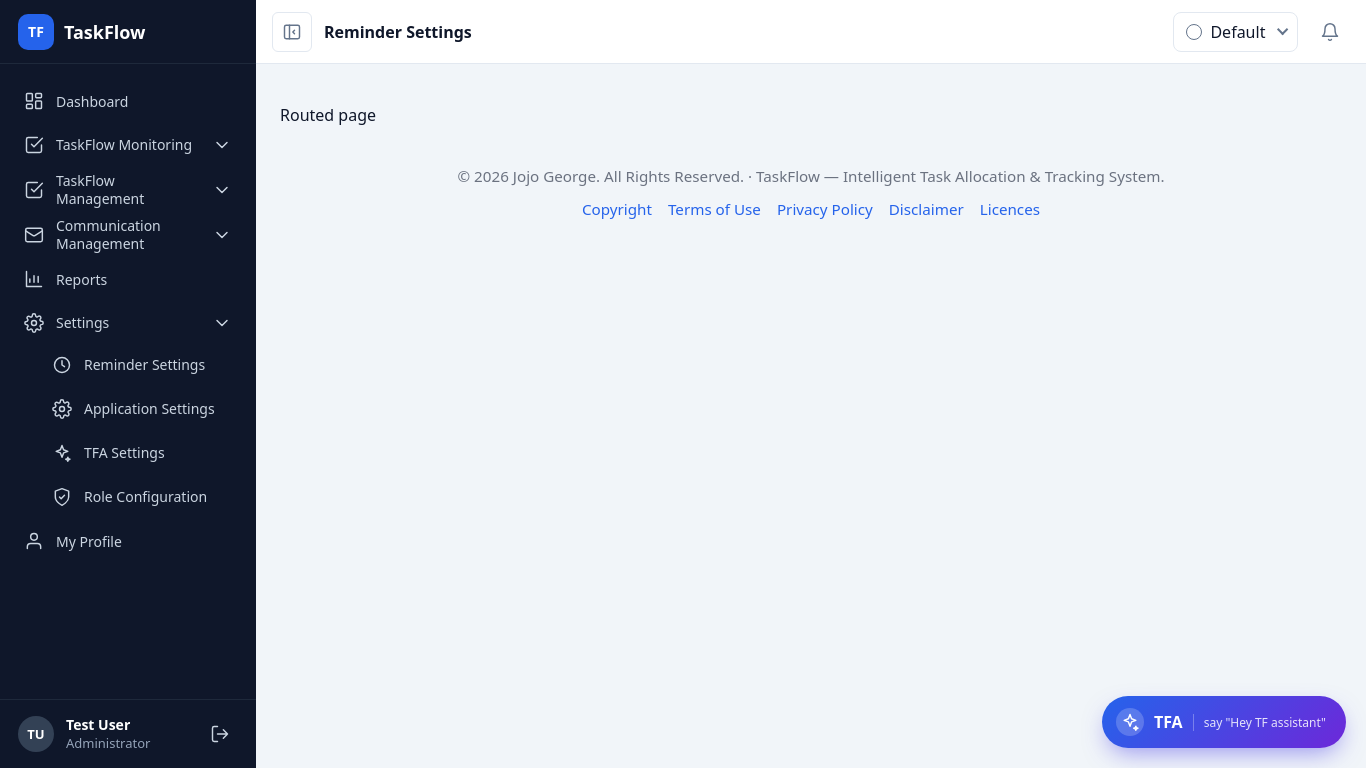
Scenario: ShellComponent › collapses a parent group even while a child route is active
Click the button with class "nav__parent" showing "Settings": [128, 323] box [12, 302, 244, 344]
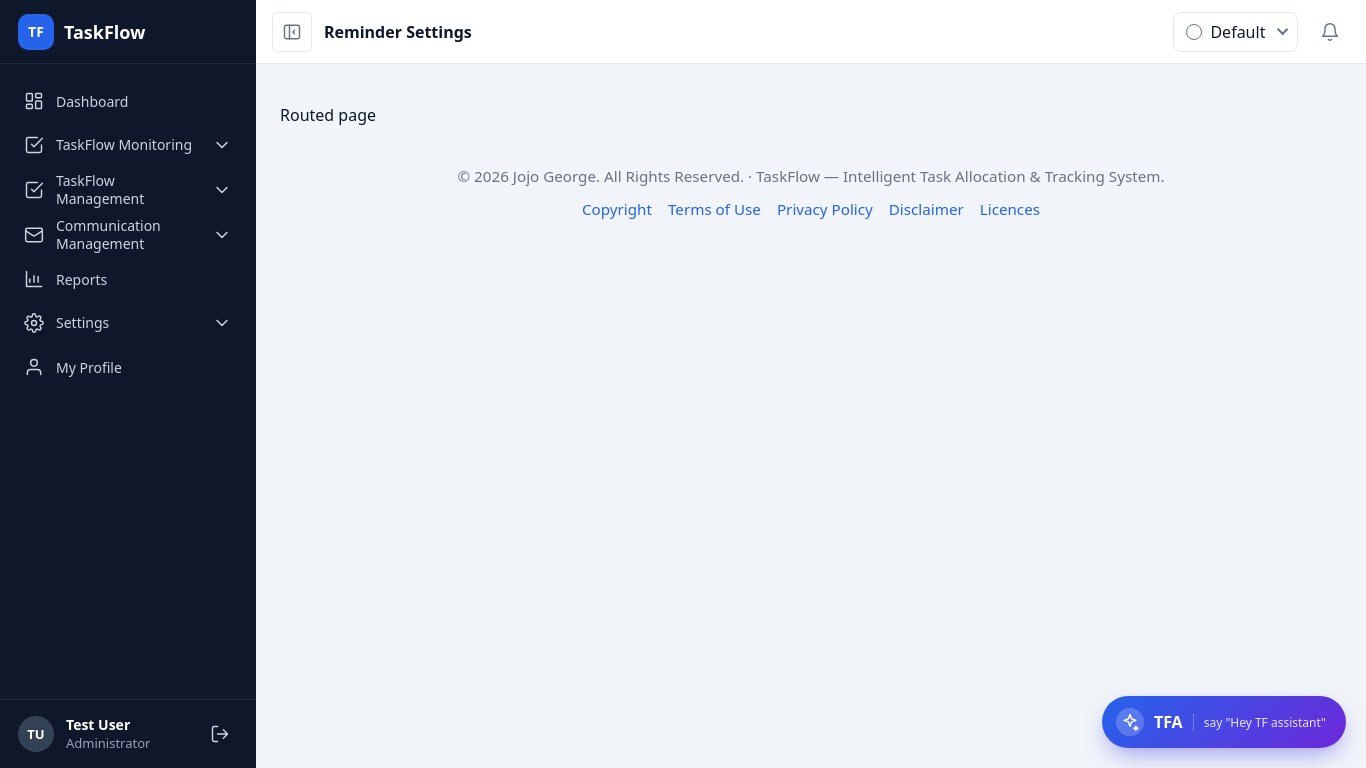
Result: the element with id "nav-group-settings" is gone
